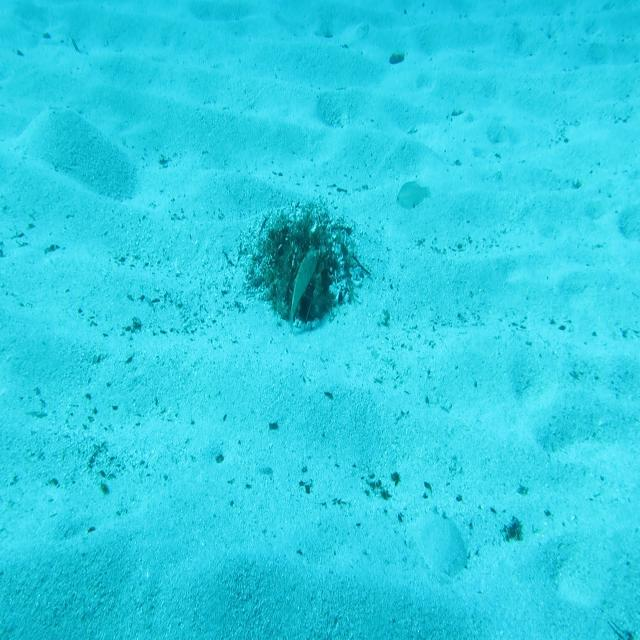LF: (287, 234, 324, 326)
female: (394, 177, 434, 216)
nest: (230, 188, 376, 338)
